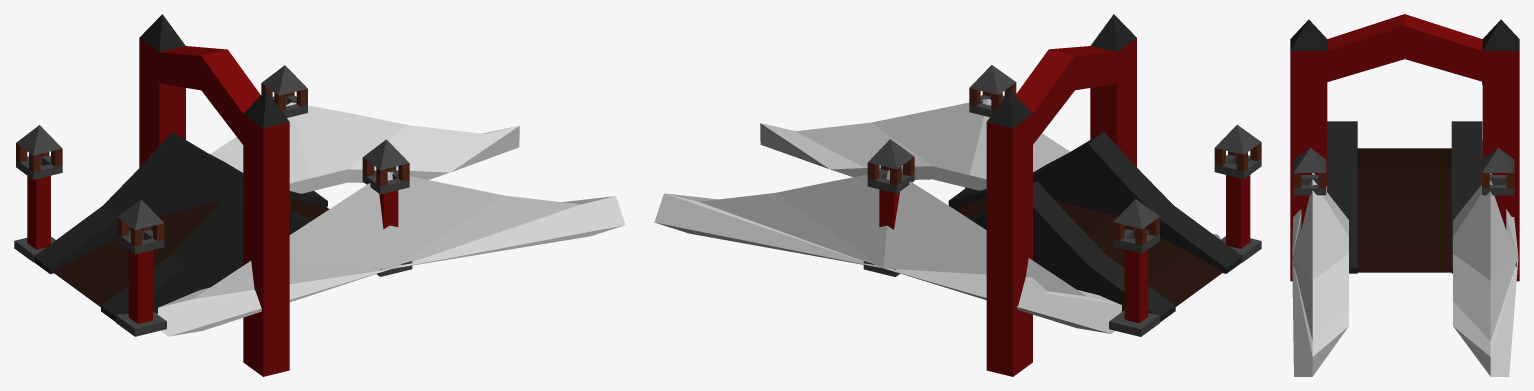
Rendered from Bridge.fbx.
3 renders of one model, left to right at view 1: azimuth 30°, elevation 25°; view 2: azimuth 150°, elevation 25°; view 3: azimuth 270°, elevation 25°, orthographic. The views are drawn at different scales.
Visible parts, largest first — view 1: test, SGLUL, Sidebar, Lampor, board; view 2: test, SGLUL, Sidebar, Lampor, board; view 3: test, SGLUL, board, Sidebar, Lampor.
Boxes of the visible parts, x1,y1,x2,y2 form: test: (158,102,625,336); SGLUL: (139,14,289,376); Sidebar: (34,132,327,321); Lampor: (14,65,412,336); board: (53,200,329,307); test: (654,98,1220,333); SGLUL: (986,14,1136,376); Sidebar: (948,132,1241,322); Lampor: (863,65,1261,336); board: (950,199,1223,306); test: (1292,173,1518,376); SGLUL: (1290,14,1519,281); board: (1357,148,1451,272); Sidebar: (1327,121,1482,273); Lampor: (1293,81,1516,266).
Bounding box in the file's own units: 2830 × 1522 × 1236.
